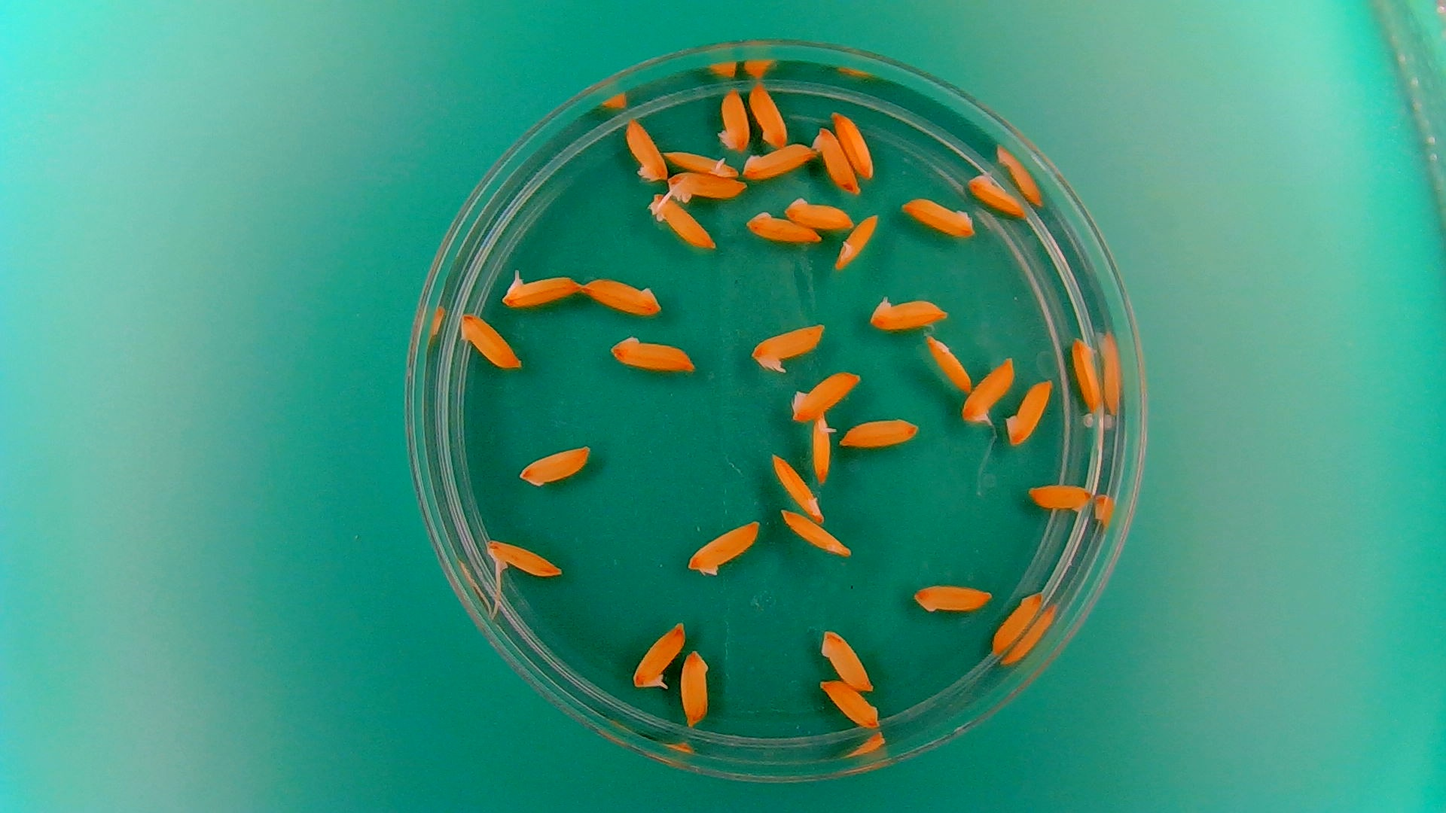no: (684, 516, 764, 578), (789, 365, 864, 422), (608, 333, 697, 379), (457, 310, 523, 372), (770, 447, 824, 522), (777, 507, 853, 559), (578, 273, 665, 317), (817, 625, 874, 692), (515, 441, 593, 489), (990, 589, 1045, 656), (865, 291, 951, 332), (899, 194, 977, 239), (1005, 376, 1055, 446), (811, 124, 860, 193), (818, 677, 881, 730), (740, 139, 818, 180), (831, 108, 876, 179), (964, 169, 1027, 219), (623, 113, 669, 181), (910, 580, 994, 617), (924, 331, 973, 394), (838, 413, 920, 450), (1068, 333, 1104, 415), (748, 79, 790, 149), (743, 209, 819, 245), (679, 644, 711, 729), (782, 193, 856, 229), (1026, 480, 1094, 517), (714, 84, 751, 151)
yes: (630, 617, 688, 693), (481, 535, 564, 588), (645, 190, 717, 251), (747, 320, 828, 374), (960, 354, 1017, 428), (495, 268, 583, 310), (664, 169, 746, 203), (834, 211, 880, 271), (664, 148, 739, 179), (810, 413, 837, 485)
